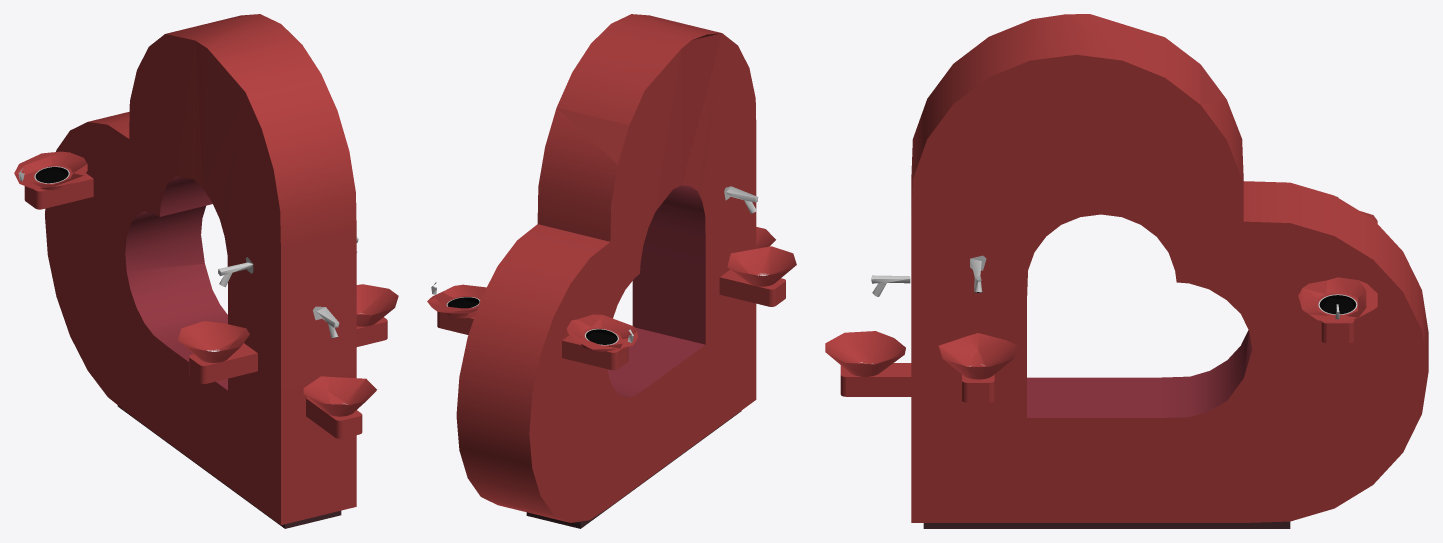
File: 음수대lowpoly.fbx
The picture shows the model from 3 angles, left to right: view 1: azimuth 30°, elevation 25°; view 2: azimuth 150°, elevation 25°; view 3: azimuth 270°, elevation 25°; orthographic projection. The views are drawn at different scales.
Visible parts, largest first — view 1: 음수대lowpoly, Group_168263, Group_168272, Group_168214, Group_168270, Group_168243, Group_168261, Group_168212, Group_168241; view 2: 음수대lowpoly, Group_168272, Group_168263, Group_168270, Group_168234, Group_168261, Group_168232; view 3: 음수대lowpoly, Group_168234, Group_168214, Group_168243, Group_168212, Group_168241, Group_168232.
Part boxes in pixels (bbox=[...]): 음수대lowpoly: bbox=[45, 14, 356, 528]; Group_168263: bbox=[14, 151, 87, 190]; Group_168272: bbox=[177, 321, 249, 362]; Group_168214: bbox=[303, 376, 376, 416]; Group_168270: bbox=[189, 343, 257, 383]; Group_168243: bbox=[356, 284, 398, 326]; Group_168261: bbox=[24, 173, 93, 209]; Group_168212: bbox=[306, 397, 362, 438]; Group_168241: bbox=[356, 314, 387, 346]; 음수대lowpoly: bbox=[456, 14, 756, 528]; Group_168272: bbox=[727, 246, 796, 286]; Group_168263: bbox=[566, 314, 637, 351]; Group_168270: bbox=[719, 269, 785, 306]; Group_168234: bbox=[427, 284, 486, 318]; Group_168261: bbox=[562, 335, 628, 370]; Group_168232: bbox=[437, 312, 474, 334]; 음수대lowpoly: bbox=[911, 14, 1428, 528]; Group_168234: bbox=[1298, 277, 1377, 322]; Group_168214: bbox=[825, 331, 905, 376]; Group_168243: bbox=[939, 333, 1017, 379]; Group_168212: bbox=[840, 363, 911, 396]; Group_168241: bbox=[962, 365, 994, 402]; Group_168232: bbox=[1321, 319, 1354, 343].
Bounding box in the file's own units: 97.69 × 193 × 220.
